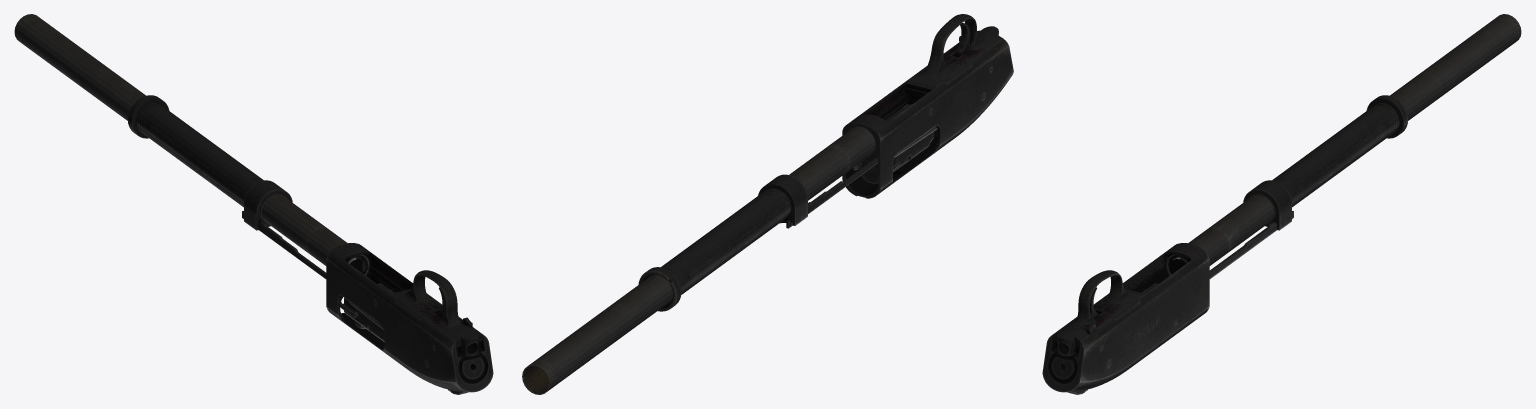
3 renders of one model, left to right at view 1: azimuth 30°, elevation 25°; view 2: azimuth 150°, elevation 25°; view 3: azimuth 330°, elevation 25°, orthographic. The views are drawn at different scales.
Visible parts, largest first — view 1: TW_5e870397991fd70db46995c8_PZ_Import; view 2: TW_5e870397991fd70db46995c8_PZ_Import; view 3: TW_5e870397991fd70db46995c8_PZ_Import.
Boxes of the visible parts, x1,y1,x2,y2 form: TW_5e870397991fd70db46995c8_PZ_Import: [14, 14, 493, 394]; TW_5e870397991fd70db46995c8_PZ_Import: [522, 14, 1013, 394]; TW_5e870397991fd70db46995c8_PZ_Import: [1042, 14, 1521, 394].
Size of the model in its own units: 0.0199 by 0.4132 by 0.054.
Materials: 1 (1 with a texture image).
